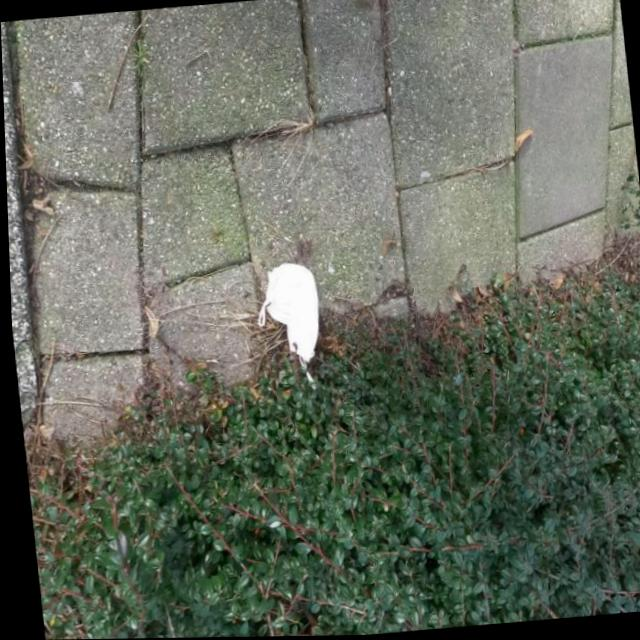Mask: (245, 250, 327, 397)
